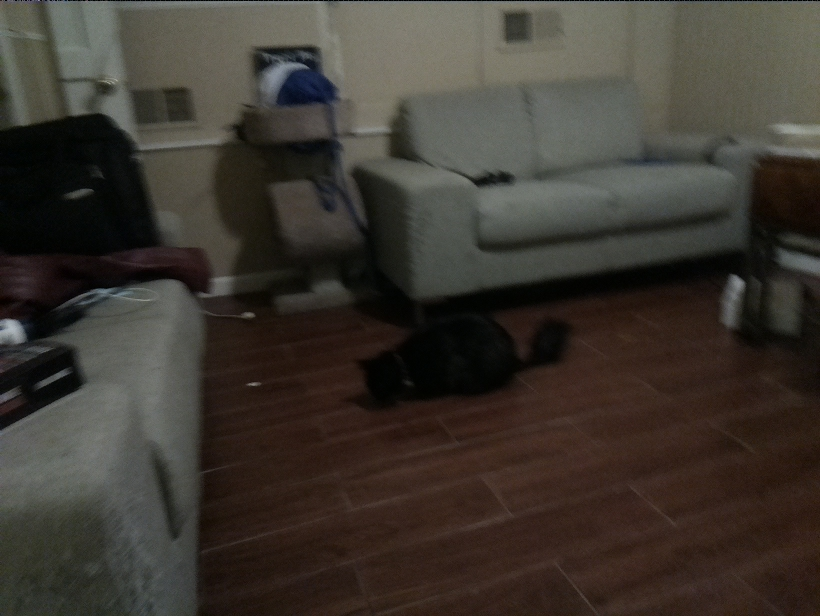cat: (343, 311, 578, 397)
